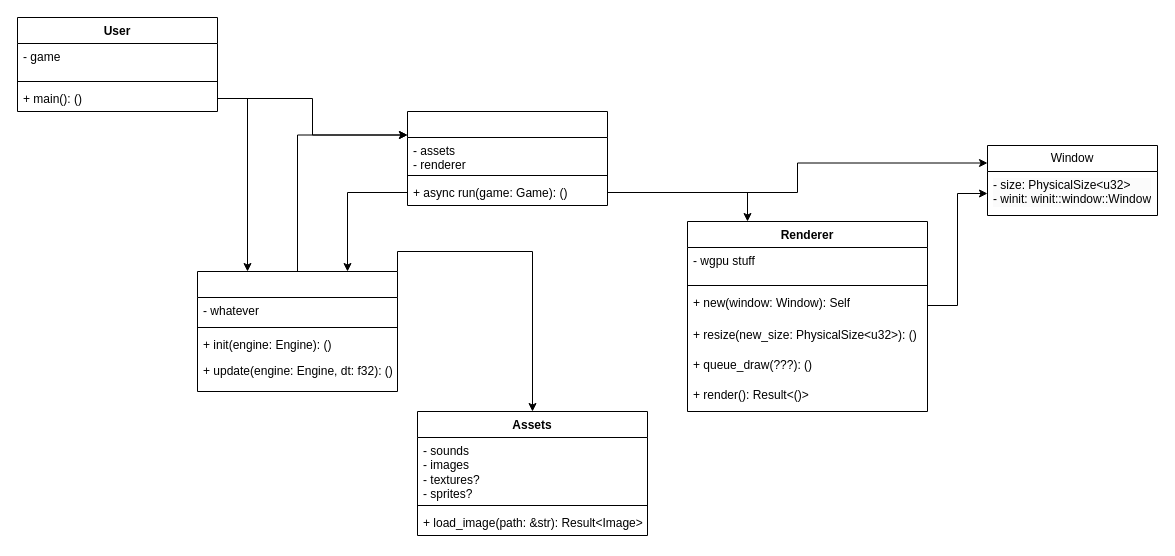
Some shapes in this 1175 by 556 pixel diagram are drawn without their labels. Each missing label, with the box of its shape:
Engine: (406, 110, 608, 206)
Game: (196, 270, 398, 392)
